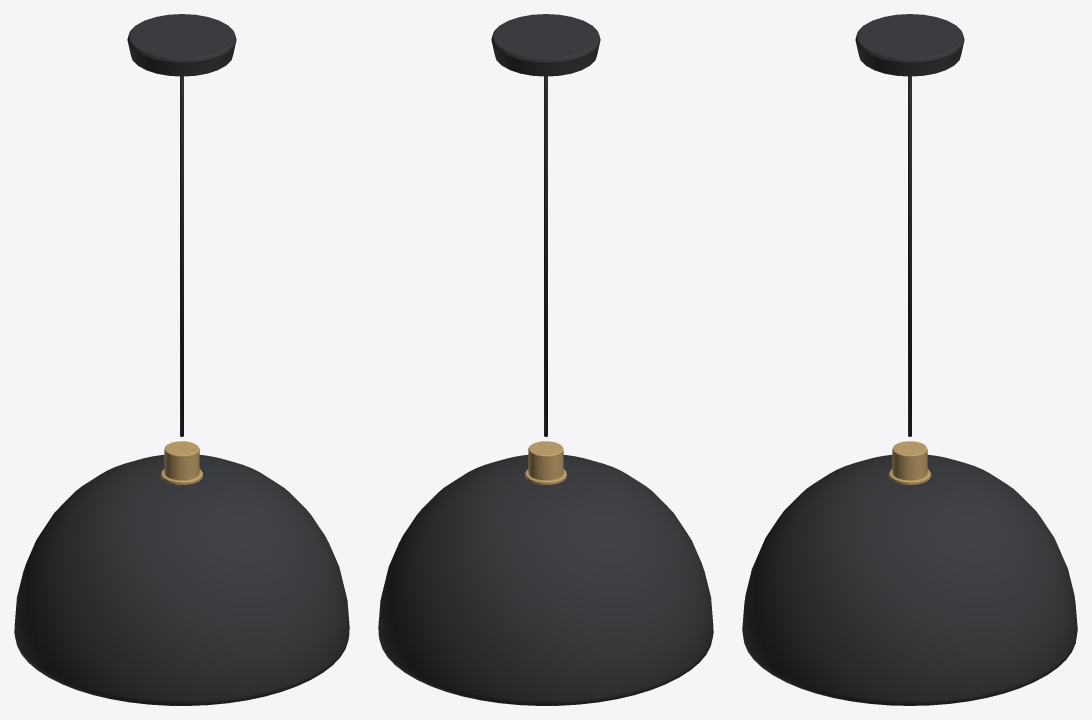
Rendered from pendant_lamp.glb.
The picture shows the model from 3 angles, left to right: view 1: azimuth 30°, elevation 25°; view 2: azimuth 150°, elevation 25°; view 3: azimuth 270°, elevation 25°; orthographic projection.
Parts seen in each view (by area): view 1: pendant_lamp_shade, pendant_lamp_canopy, pendant_lamp_socket, pendant_lamp_cord; view 2: pendant_lamp_shade, pendant_lamp_canopy, pendant_lamp_socket, pendant_lamp_cord; view 3: pendant_lamp_shade, pendant_lamp_canopy, pendant_lamp_socket, pendant_lamp_cord.
Boxes of the visible parts, box(x1,y1,x2,y2) form: pendant_lamp_shade: box(14, 455, 349, 705); pendant_lamp_canopy: box(127, 14, 236, 76); pendant_lamp_socket: box(161, 441, 202, 484); pendant_lamp_cord: box(180, 76, 183, 436); pendant_lamp_shade: box(378, 455, 713, 705); pendant_lamp_canopy: box(491, 14, 600, 76); pendant_lamp_socket: box(525, 441, 566, 484); pendant_lamp_cord: box(544, 76, 547, 436); pendant_lamp_shade: box(742, 454, 1077, 705); pendant_lamp_canopy: box(855, 14, 964, 76); pendant_lamp_socket: box(888, 441, 931, 484); pendant_lamp_cord: box(908, 76, 911, 436).
Size of the model in its own units: 0.38 by 0.75 by 0.38.
